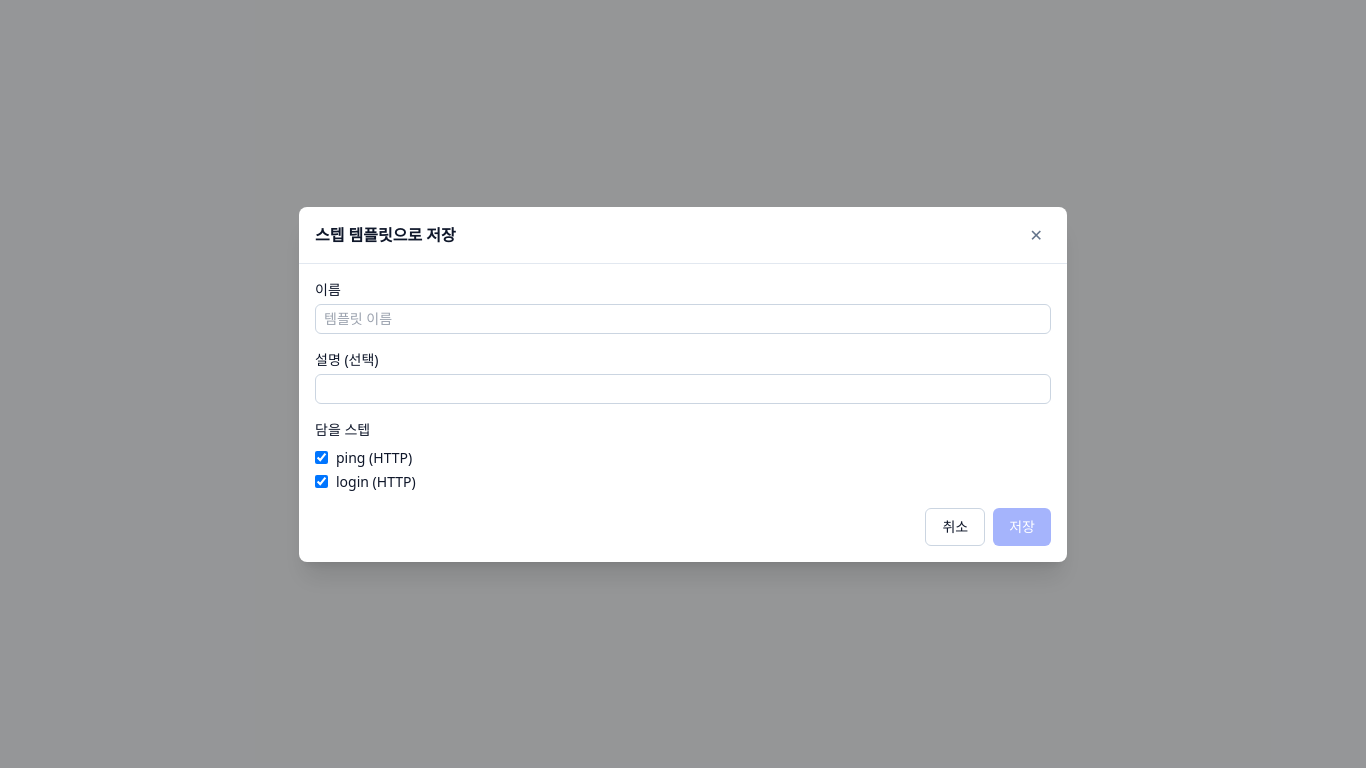
Test case: SaveTemplateDialog › 체크 0개이면 저장 비활성
Type "my-template" into the field labelled "이름".
click(683, 318); type("my-template")  # box [315,304,1051,334]
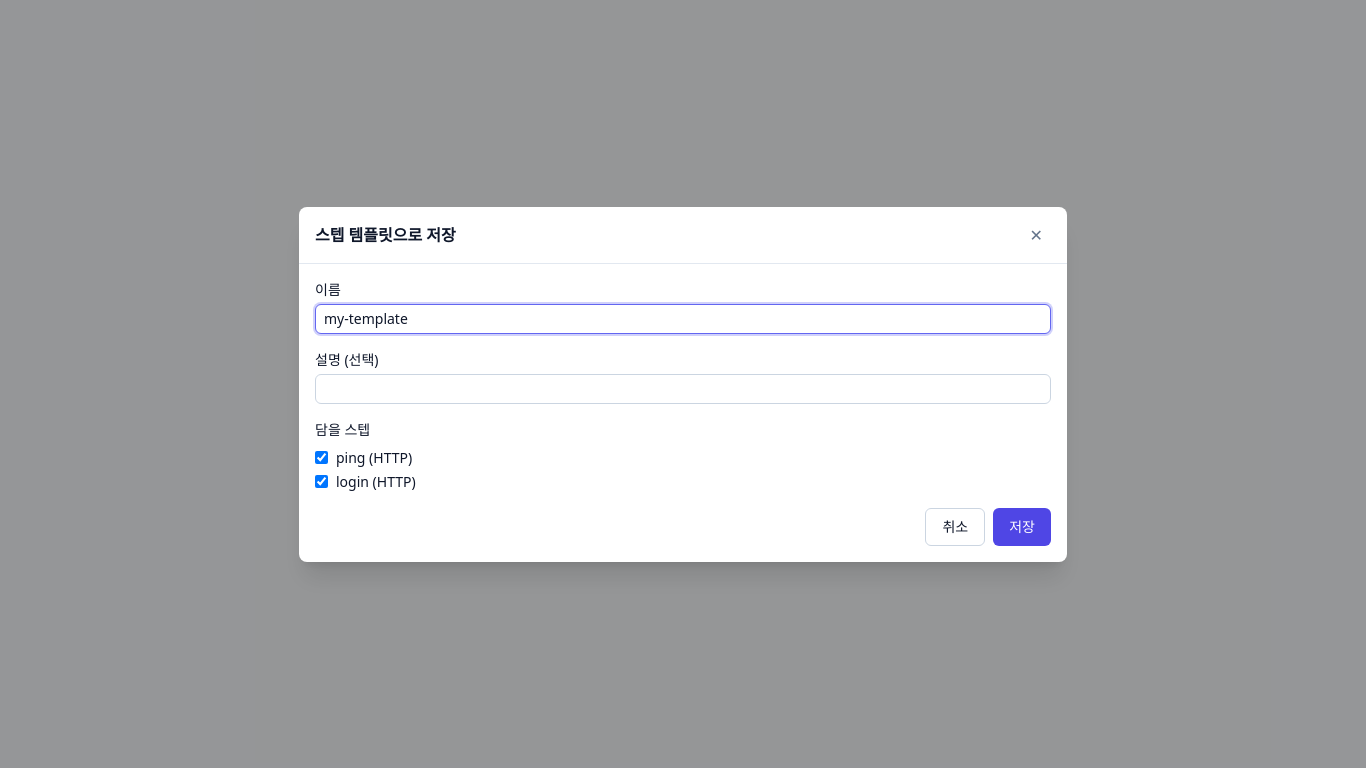
Click the checkbox labelled "ping (HTTP)".
click(322, 458)  # box [315,451,328,464]
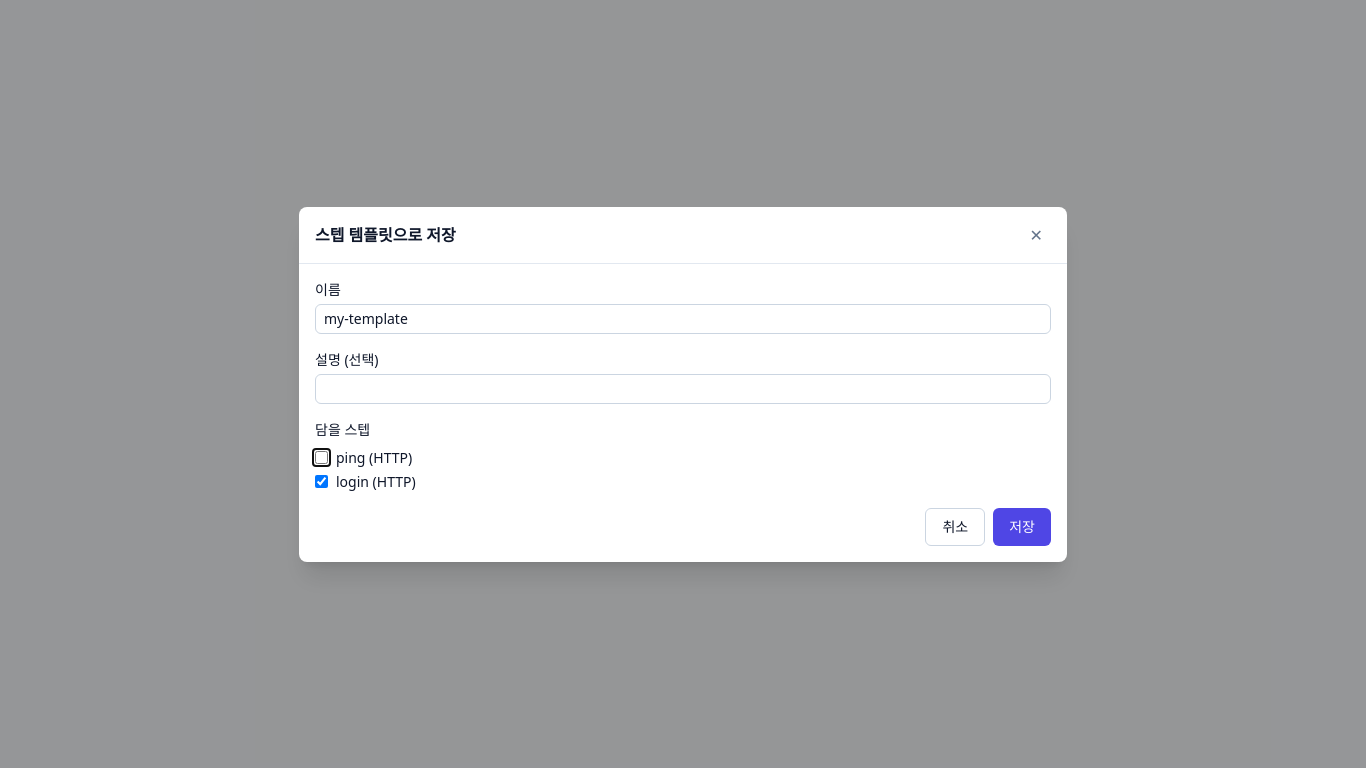
Click the checkbox labelled "login (HTTP)".
click(322, 482)  # box [315,475,328,488]
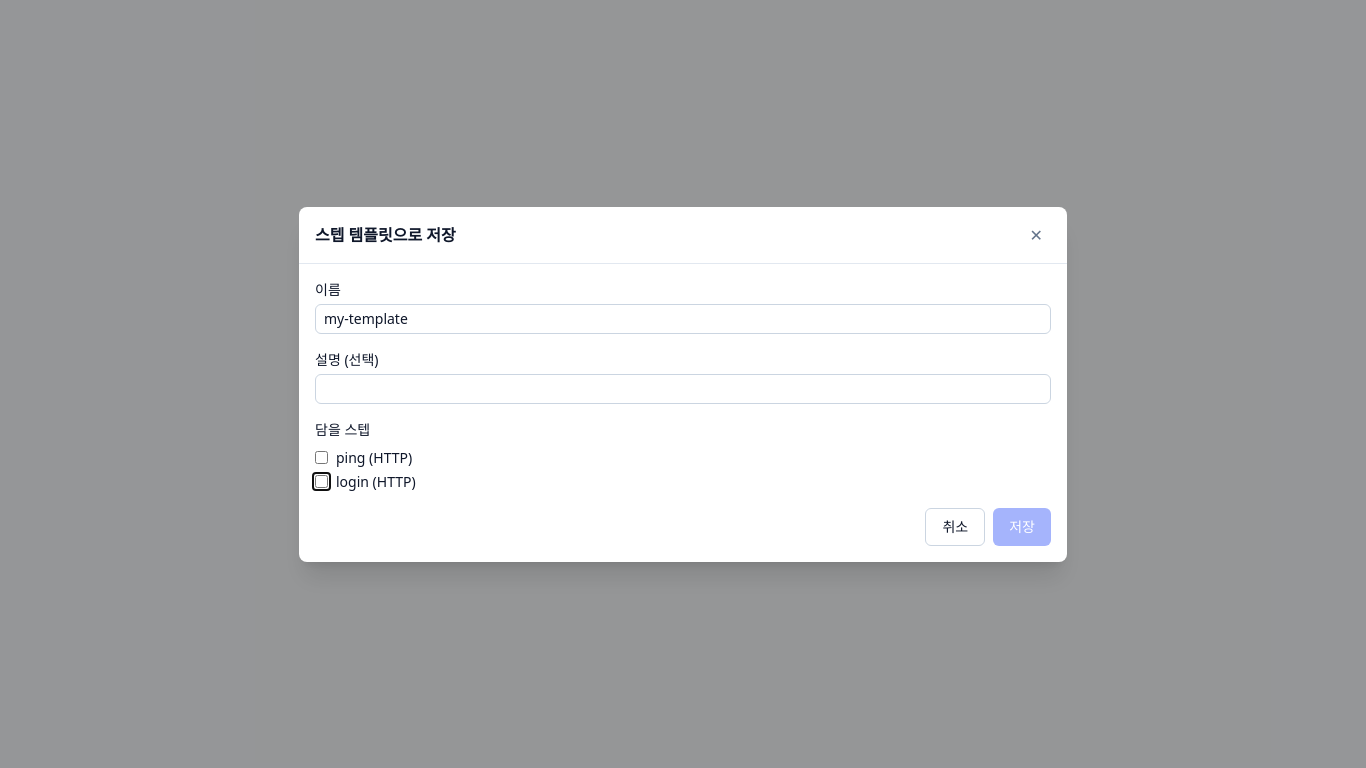
Check: the button "저장" is disabled, box [993,508,1051,546]
